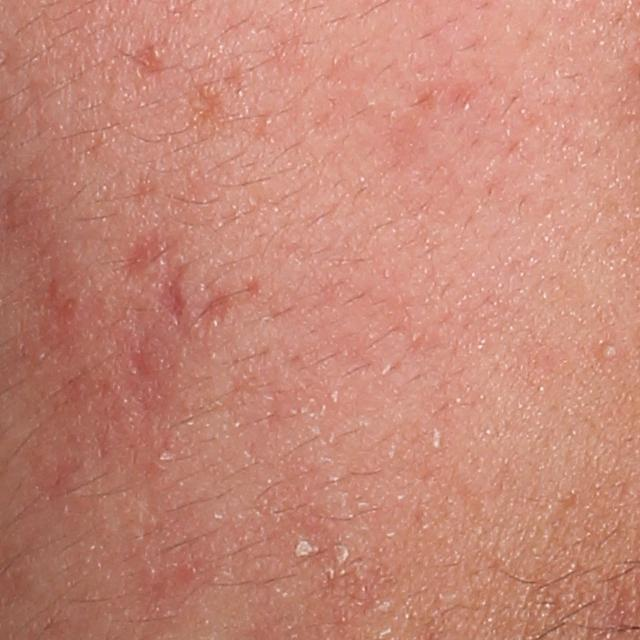atrophic_scar: (28, 257, 95, 363), (115, 222, 162, 296), (117, 332, 167, 391), (155, 265, 191, 332), (199, 287, 238, 338), (125, 40, 167, 82)
